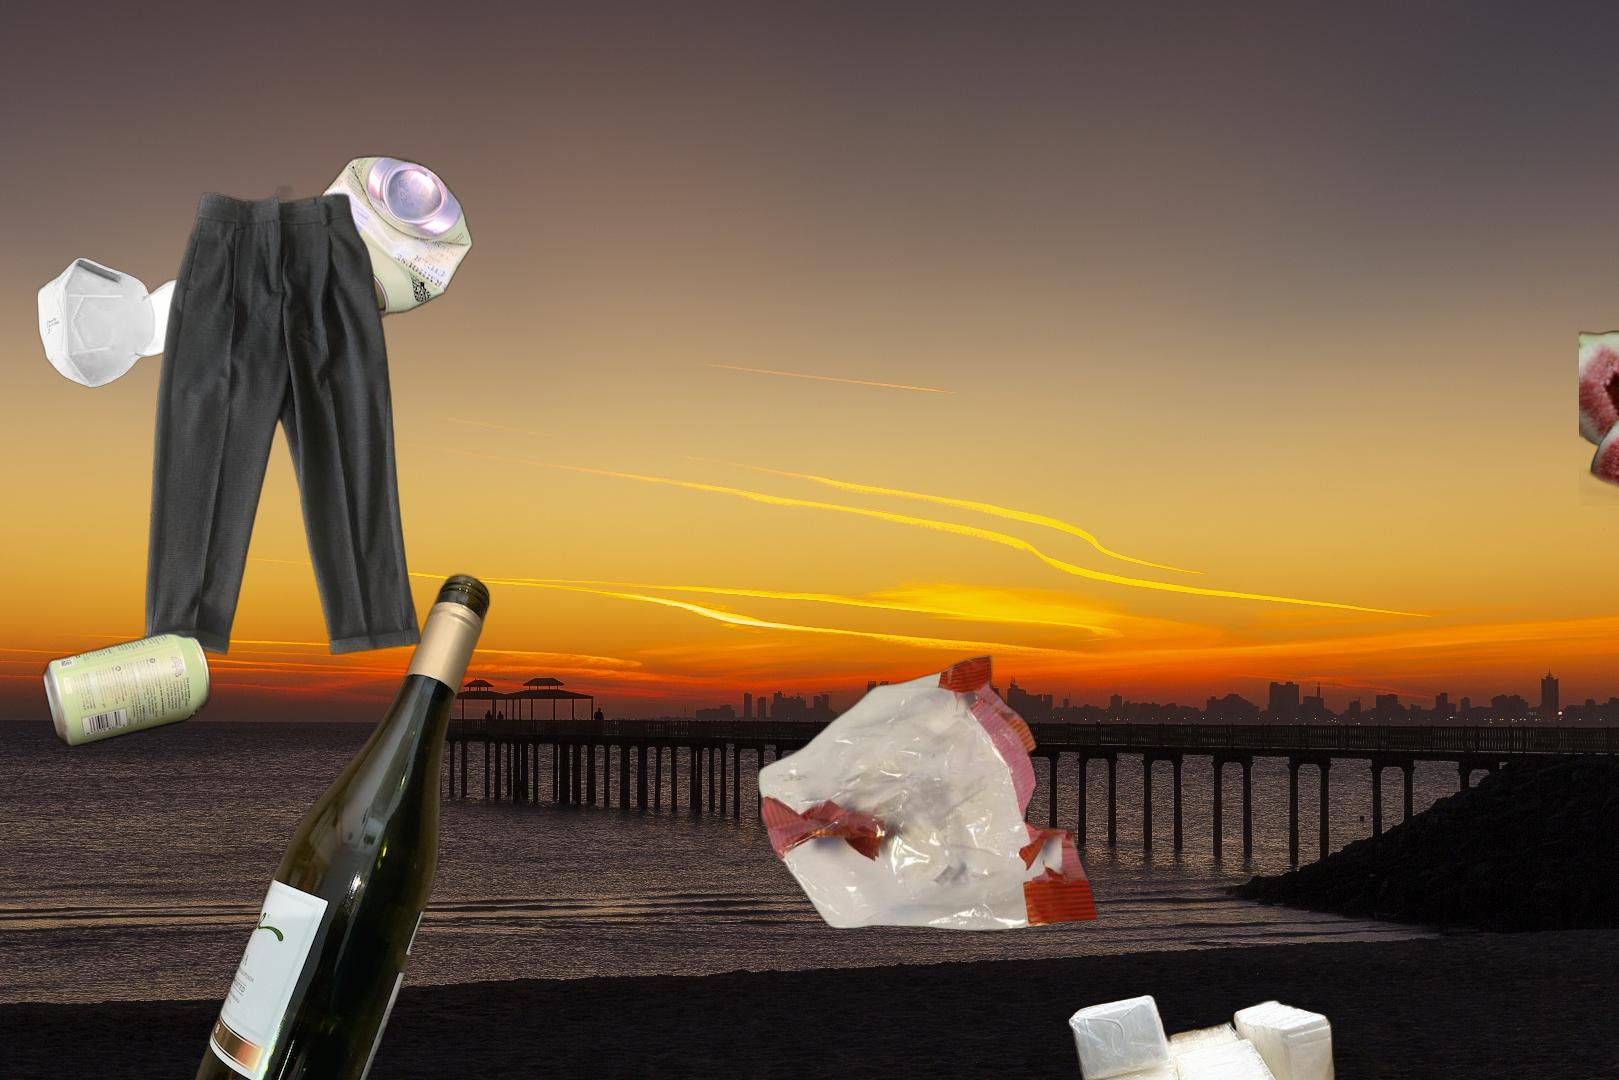biological: (1579, 323, 1619, 506)
clothes: (139, 180, 424, 714)
glass: (189, 569, 495, 1080)
metal-cans: (306, 149, 476, 324), (39, 628, 215, 755)
paper: (752, 652, 1103, 933)
trash: (35, 256, 203, 391)
trashbox-cardboard: (908, 932, 1543, 1080)
